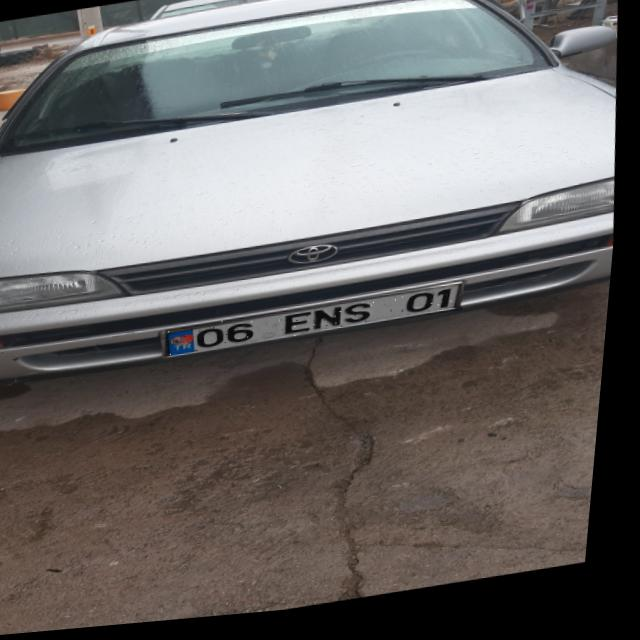license_plate: (169, 292, 470, 360)
